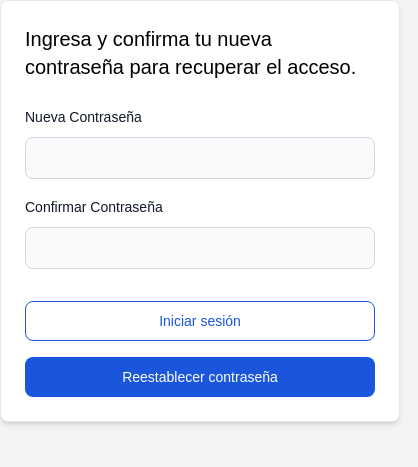
ResetPasswordCard › Form Validation › Given a user entering a strong password, then enters a confirm password different, show error validation
In the password field with test id "password": (200, 158) [25,137,375,179], type "alotofcharactersonpasswordA1@"
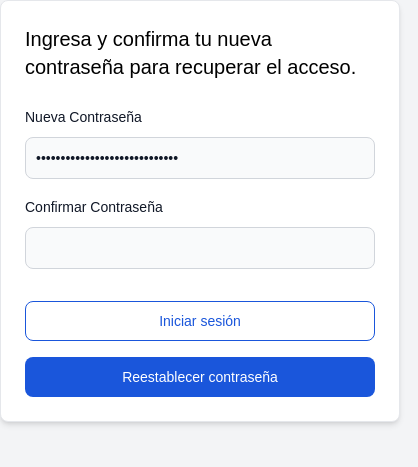
In the password field with test id "confirmPassword": (200, 248) [25,227,375,269], type "alotofcharactersonpasswordA2"
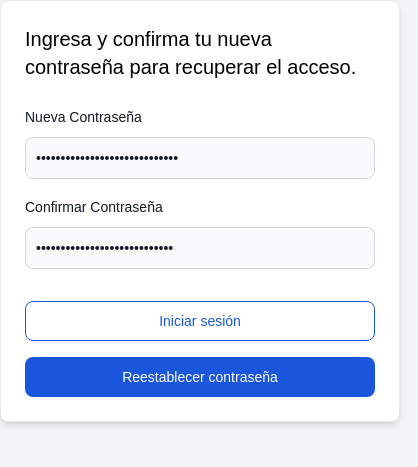
Click the button "Reestablecer contraseña": (200, 377) [25,357,375,397]
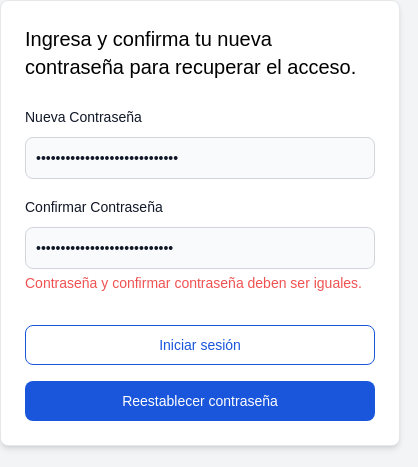
Now the text "Contraseña y confirmar contraseña deben ser iguales." is shown, box [25,273,375,293]
